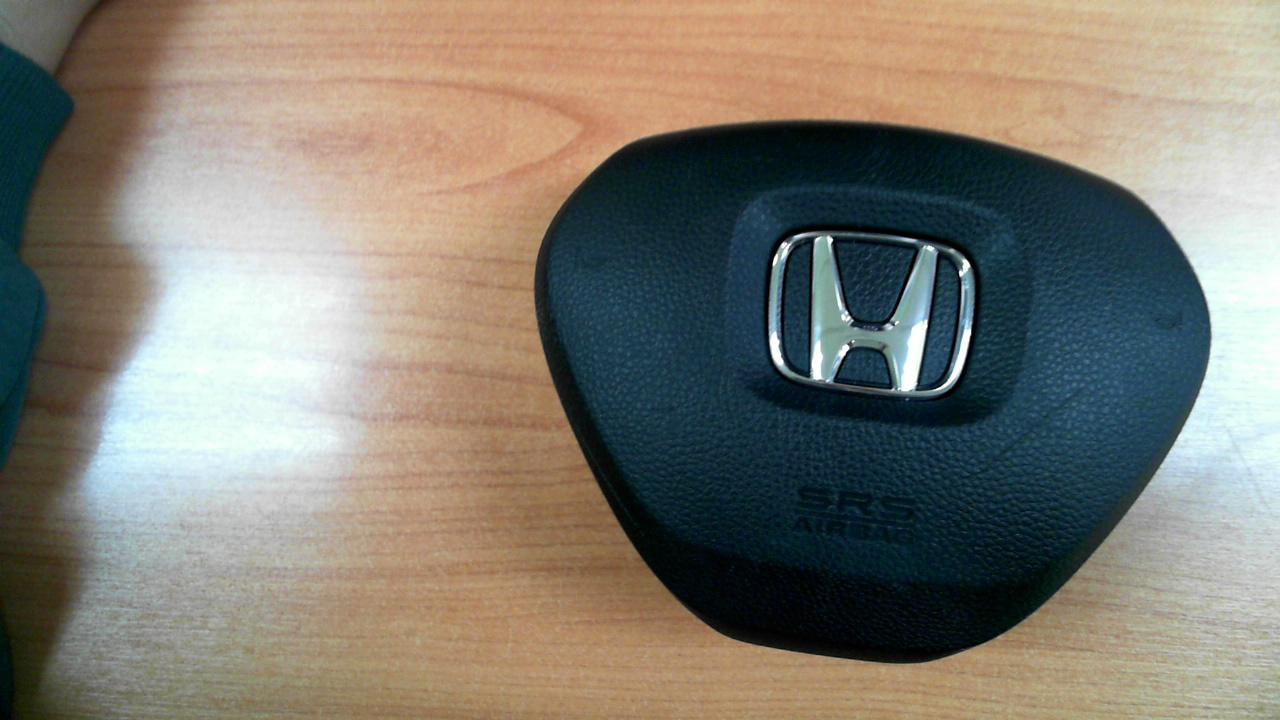Airbag: (532, 118, 1212, 666)
Honda: (767, 230, 976, 401)
